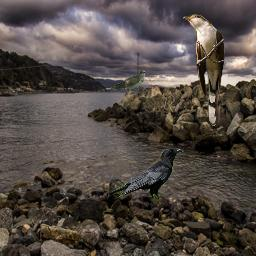Crow: (108, 148, 184, 201)
Cuckoo: (183, 14, 225, 127), (97, 70, 145, 92)
